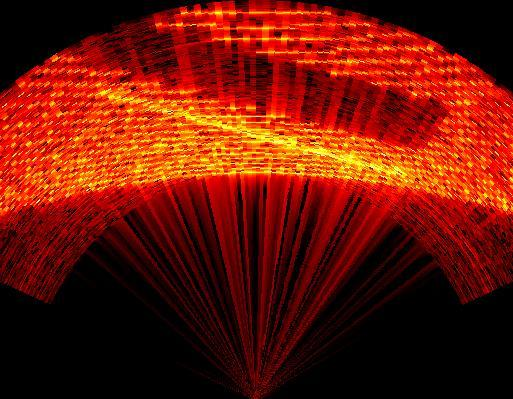pipe: (56, 20, 454, 181)
